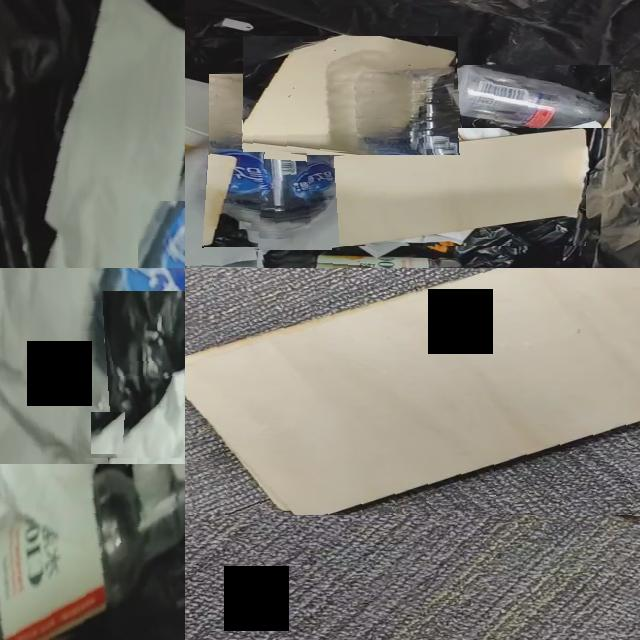bottle: (0, 464, 185, 640), (72, 268, 185, 458), (209, 78, 331, 250), (444, 66, 610, 128)
carton: (185, 268, 640, 515), (308, 130, 586, 246), (243, 36, 457, 152)
paper: (40, 0, 185, 268), (93, 300, 185, 600), (0, 268, 96, 495), (185, 149, 265, 268), (185, 149, 261, 266), (14, 445, 67, 514), (359, 230, 465, 257), (185, 78, 217, 136), (91, 412, 125, 453), (453, 118, 510, 140), (479, 129, 500, 134)
